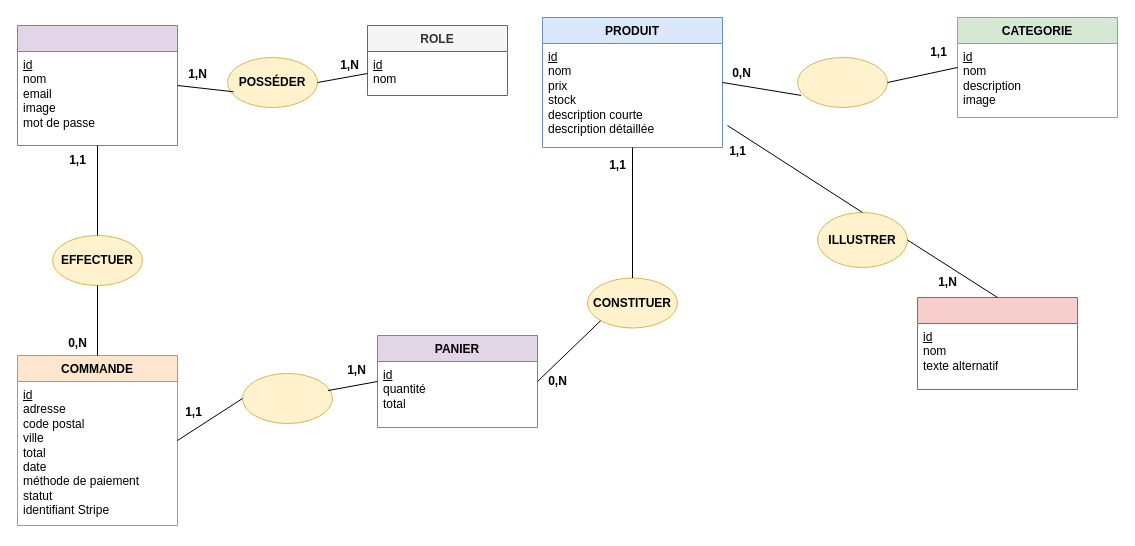
This 1135x546 diagram has some shape labels left out. Each missing label, with the box of its shape:
APPARTENIR: (796, 56, 888, 108)
CONTENIR: (242, 372, 332, 424)
IMAGE: (916, 296, 1078, 390)
UTILISATEUR: (16, 24, 178, 146)
